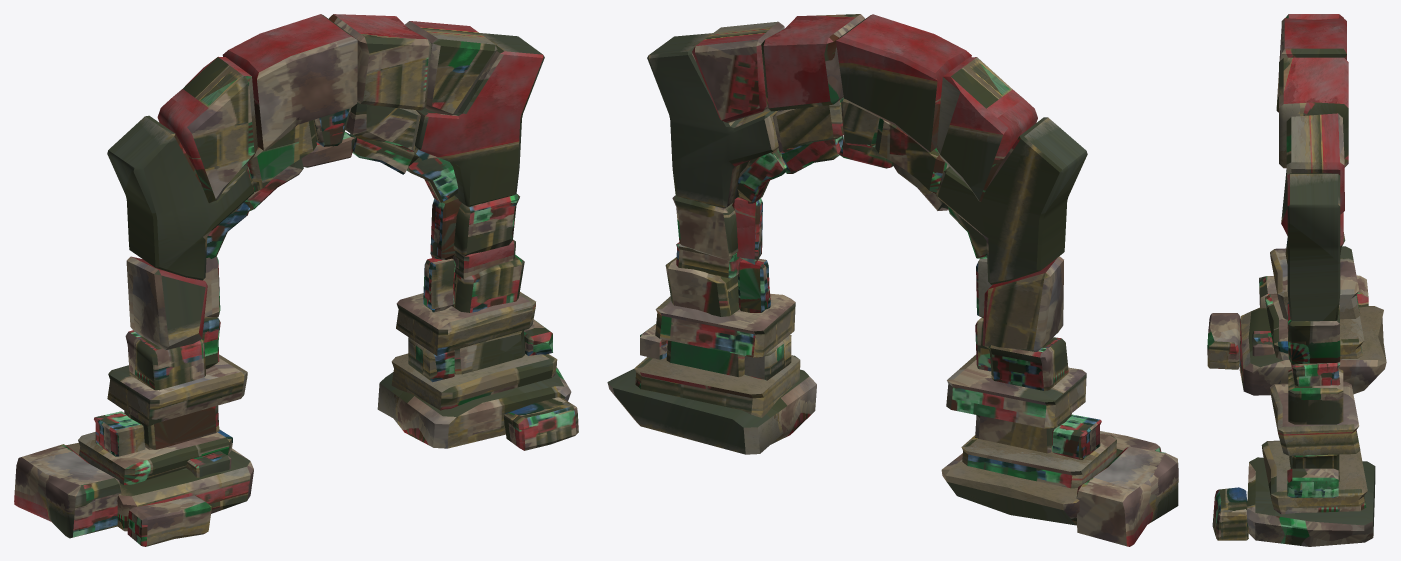
The model's file is arche.fbx.
3 renders of one model, left to right at view 1: azimuth 30°, elevation 25°; view 2: azimuth 150°, elevation 25°; view 3: azimuth 270°, elevation 25°, orthographic. The views are drawn at different scales.
Visible parts, largest first — view 1: Cube.037; view 2: Cube.037; view 3: Cube.037.
Part boxes in pixels (left/top/right/bottom): Cube.037: left=14, top=14, right=578, bottom=546; Cube.037: left=607, top=14, right=1178, bottom=546; Cube.037: left=1207, top=14, right=1386, bottom=546.
Size of the model in its own units: 197 by 155 by 61.21.
